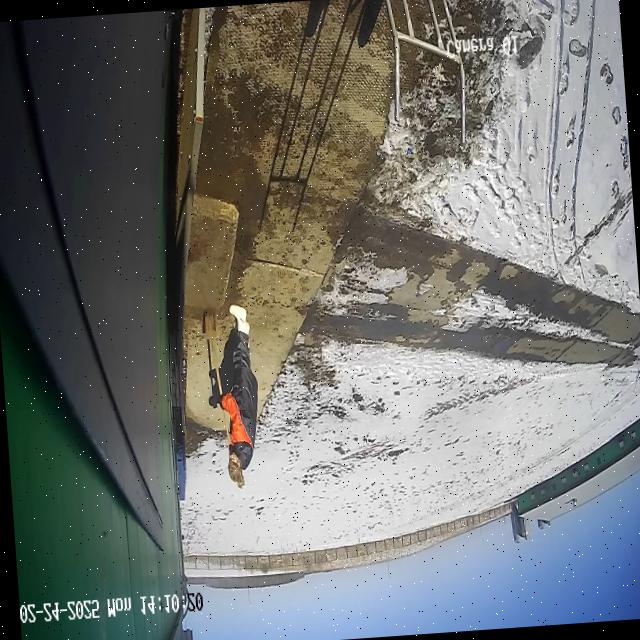Red uniform: (200, 300, 266, 490)
